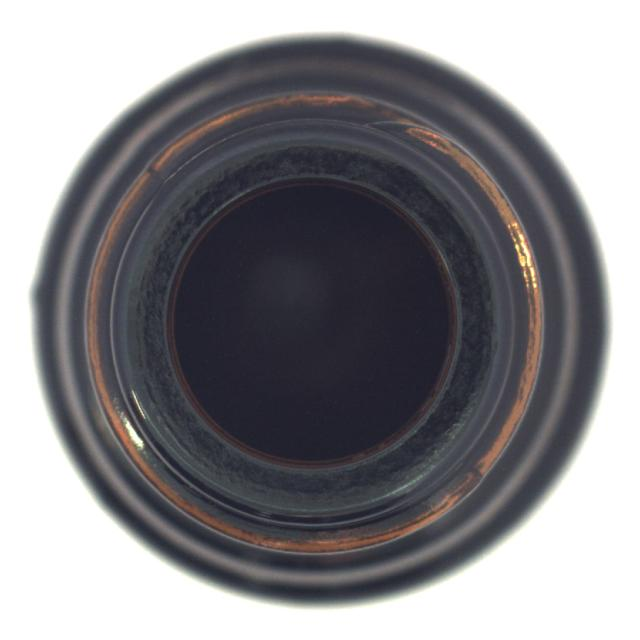bottle-good: (31, 35, 600, 606)
